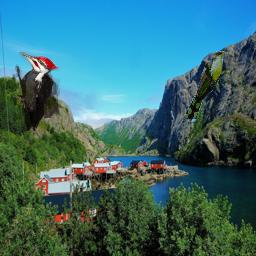Cuckoo: (185, 51, 228, 122)
Woodpecker: (12, 52, 60, 131)
